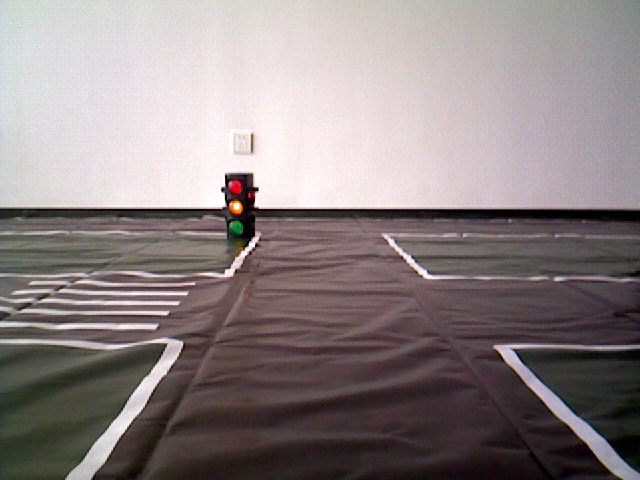yellow: (223, 173, 256, 241)
